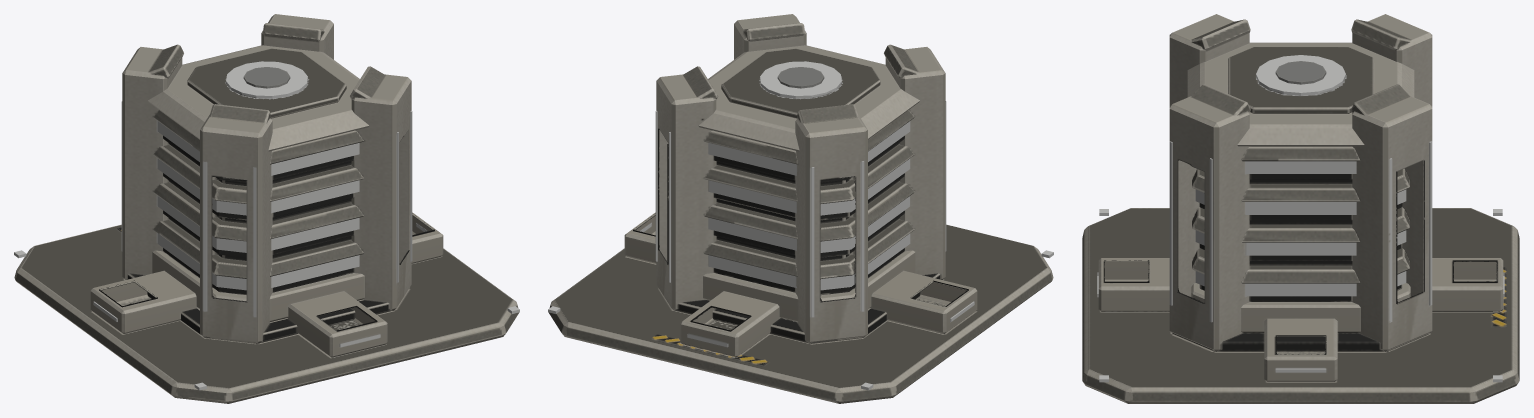
File: ord_capacitor.fbx
The picture shows the model from 3 angles, left to right: view 1: azimuth 30°, elevation 25°; view 2: azimuth 150°, elevation 25°; view 3: azimuth 270°, elevation 25°; orthographic projection. The views are drawn at different scales.
Parts seen in each view (by area): view 1: base_bar, base_glow_power_bar, base_glow_running_bar; view 2: base_bar, base_glow_power_bar, base_glow_running_bar; view 3: base_bar, base_glow_power_bar, base_glow_running_bar.
Boxes of the visible parts, x1,y1,x2,y2 form: base_bar: [14, 14, 519, 403]; base_glow_power_bar: [157, 61, 359, 290]; base_glow_running_bar: [14, 101, 519, 390]; base_bar: [548, 14, 1053, 403]; base_glow_power_bar: [708, 61, 910, 290]; base_glow_running_bar: [548, 101, 1053, 390]; base_bar: [1082, 14, 1519, 403]; base_glow_power_bar: [1195, 55, 1406, 296]; base_glow_running_bar: [1097, 141, 1504, 382].
Bounding box in the file's own units: 1555 × 1190 × 1555.
2 materials, 2 textured.
